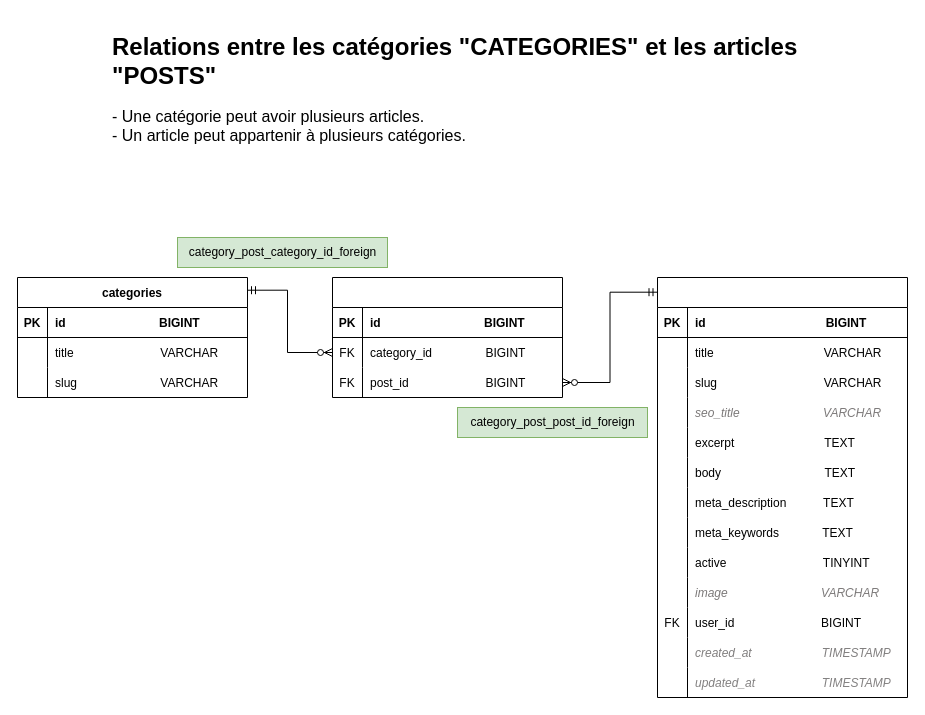
Some shapes in this 925 by 715 pixel diagram are drawn without their labels. Here are the shapes that lost their labels. From the top down, the box of each, then its label:
(332, 276, 562, 398): category_post
(656, 276, 908, 698): posts
